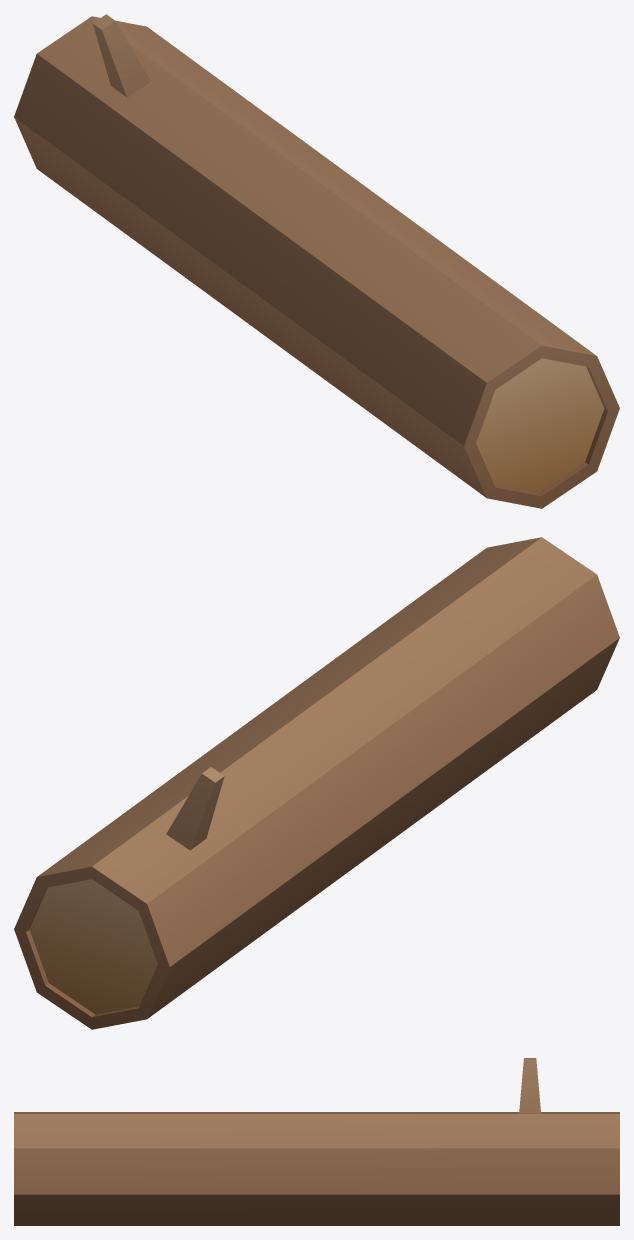
File: floatingLog.fbx
The picture shows the model from 3 angles, top to bottom: view 1: azimuth 30°, elevation 25°; view 2: azimuth 150°, elevation 25°; view 3: azimuth 270°, elevation 25°; orthographic projection. The views are drawn at different scales.
Visible parts, largest first — view 1: floatingLog; view 2: floatingLog; view 3: floatingLog.
Part boxes in pixels (x1,y1,x2,y2): floatingLog: (14, 14, 619, 508); floatingLog: (14, 537, 619, 1029); floatingLog: (14, 1058, 619, 1225).
Bounding box in the file's own units: 100 × 136 × 500.
